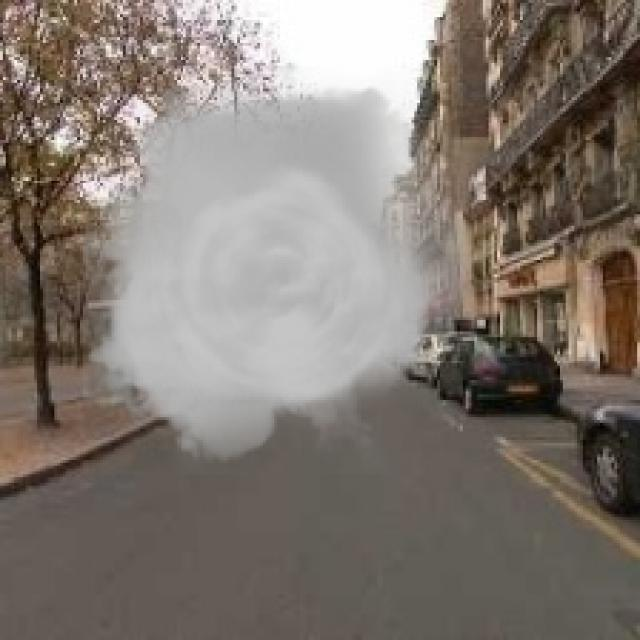smoke: (83, 66, 468, 474)
